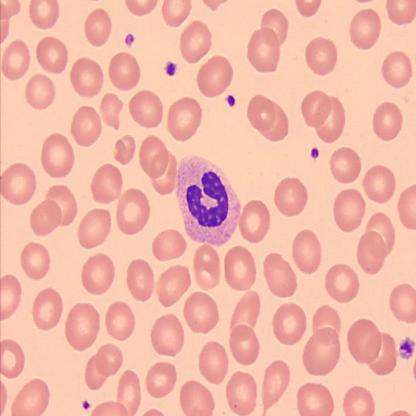Band Neutrophil: (173, 148, 244, 249)
